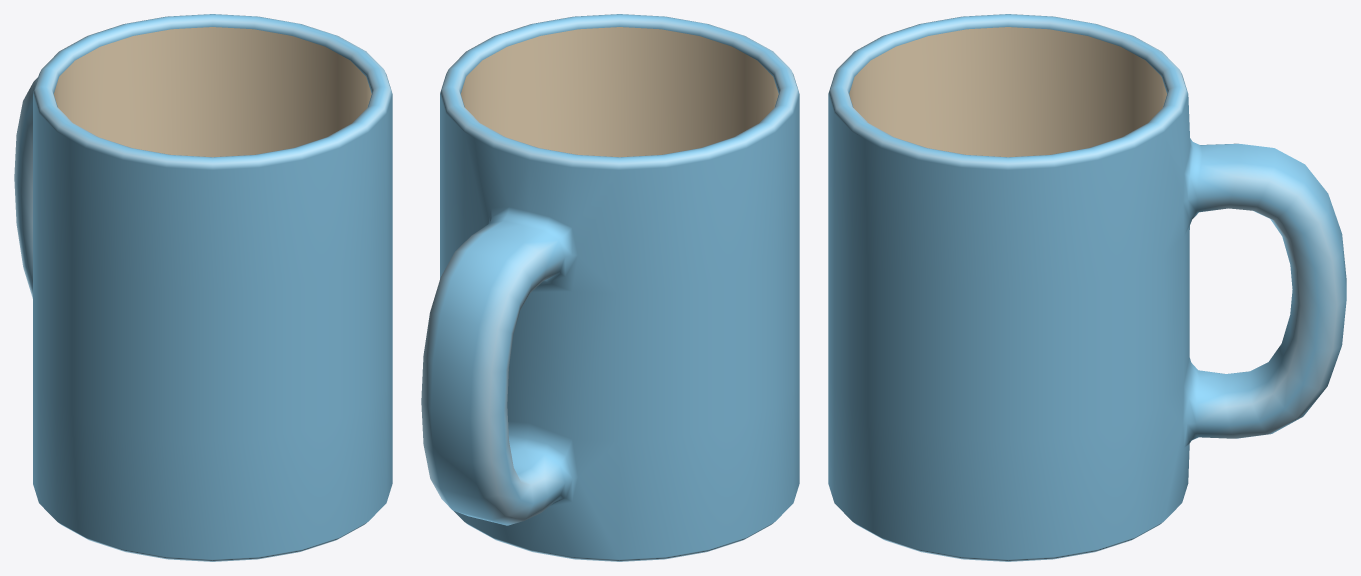
Rendered from Cup_01.glb.
The picture shows the model from 3 angles, left to right: view 1: azimuth 30°, elevation 25°; view 2: azimuth 150°, elevation 25°; view 3: azimuth 270°, elevation 25°; orthographic projection.
Visible parts, largest first — view 1: Cup_01; view 2: Cup_01; view 3: Cup_01.
Part boxes in pixels (x1,y1,x2,y2): Cup_01: (14, 14, 392, 561); Cup_01: (421, 14, 799, 561); Cup_01: (828, 14, 1346, 561).
Size of the model in its own units: 0.0801 by 0.0996 by 0.1155.
Materials: 1 (1 with a texture image).
